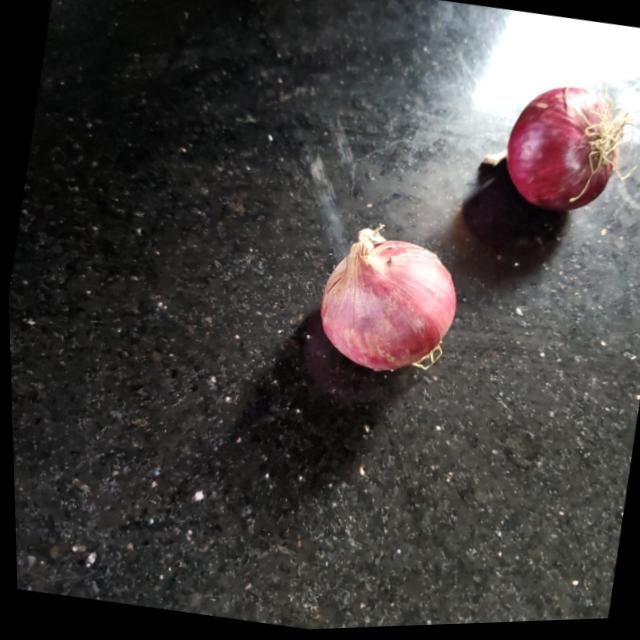onion: (309, 226, 468, 383), (495, 81, 625, 223)
